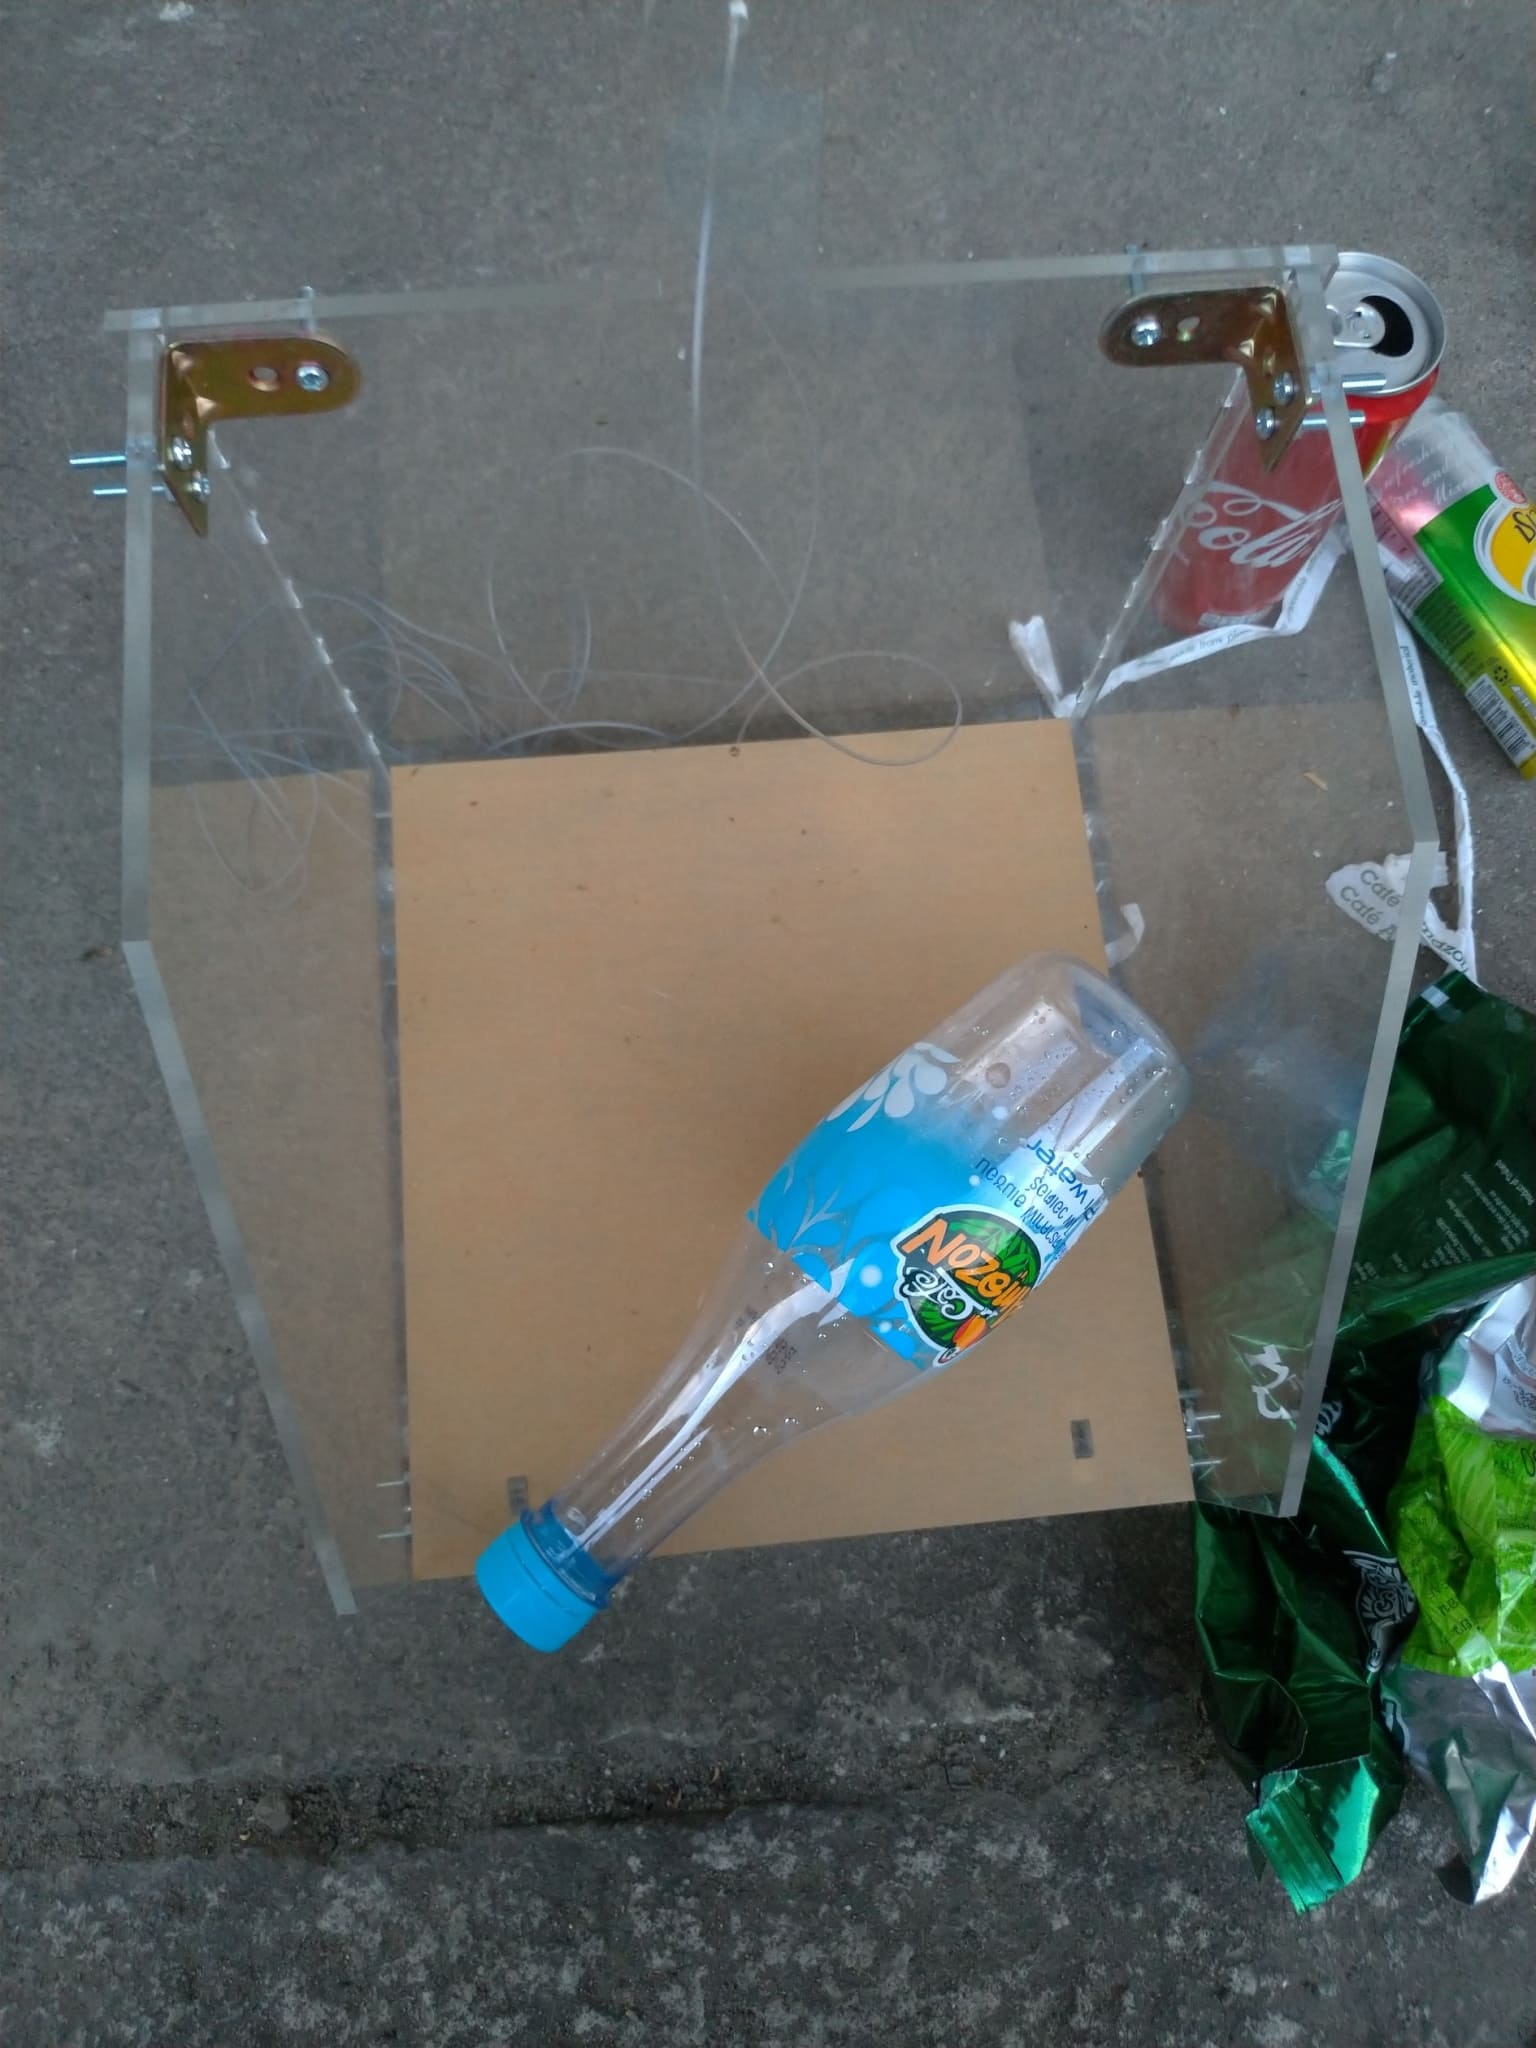AlCan: (1150, 248, 1447, 632), (1363, 403, 1536, 764)
Others: (1187, 974, 1533, 1919), (1375, 1287, 1518, 1909), (1007, 535, 1354, 713), (1334, 606, 1489, 974)
PlasticBottle: (466, 948, 1191, 1655)
